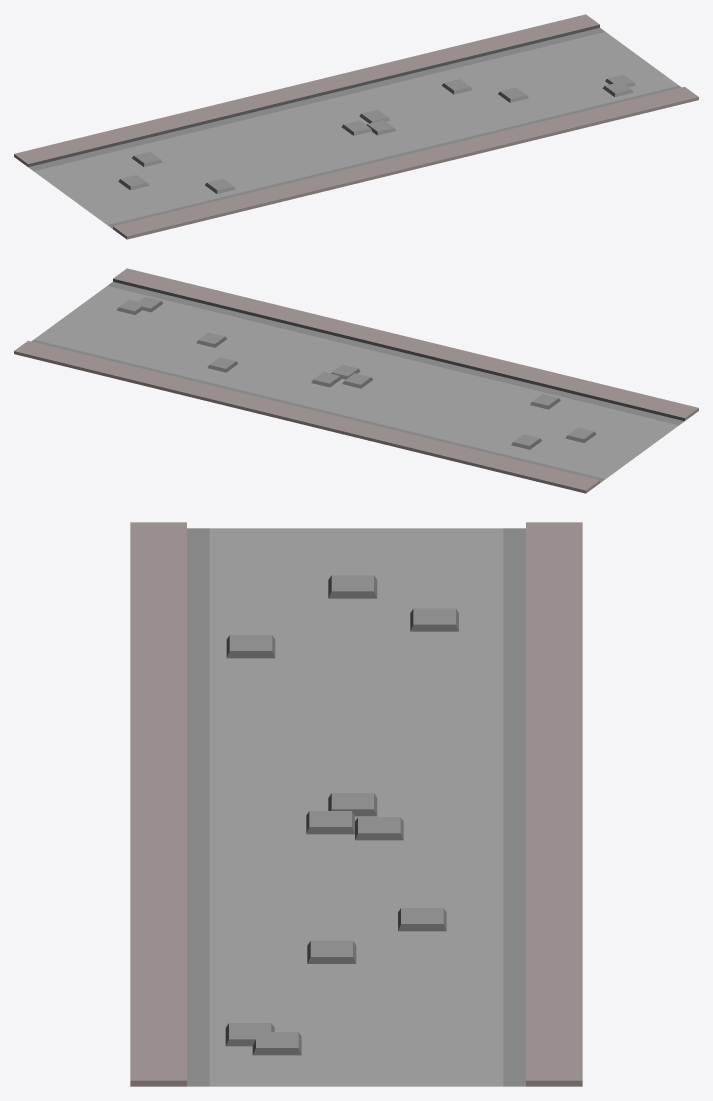
File: Sidewalk 1.fbx
The picture shows the model from 3 angles, top to bottom: view 1: azimuth 30°, elevation 25°; view 2: azimuth 150°, elevation 25°; view 3: azimuth 270°, elevation 25°; orthographic projection. The views are drawn at different scales.
Visible parts, largest first — view 1: sidewalk; view 2: sidewalk; view 3: sidewalk.
Boxes of the visible parts, x1,y1,x2,y2 form: sidewalk: (14, 14, 698, 239); sidewalk: (14, 268, 698, 493); sidewalk: (130, 522, 582, 1086).
Bounding box in the file's own units: 2044 × 19.32 × 700.
